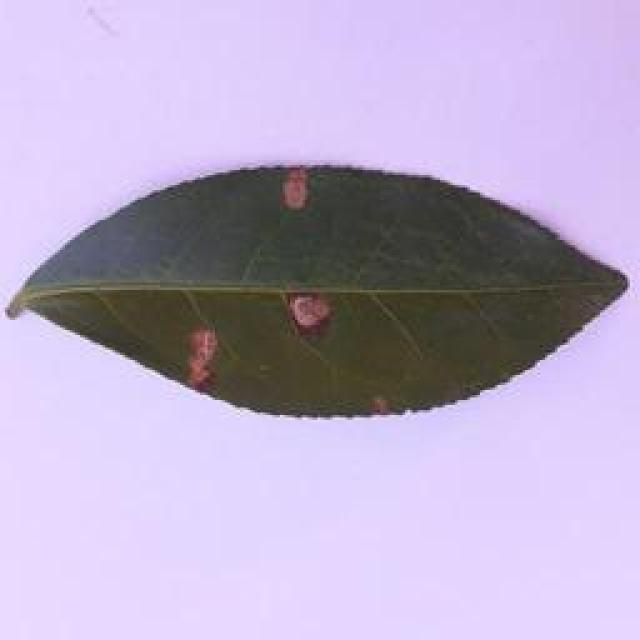Gray Blight: (2, 155, 640, 447)
